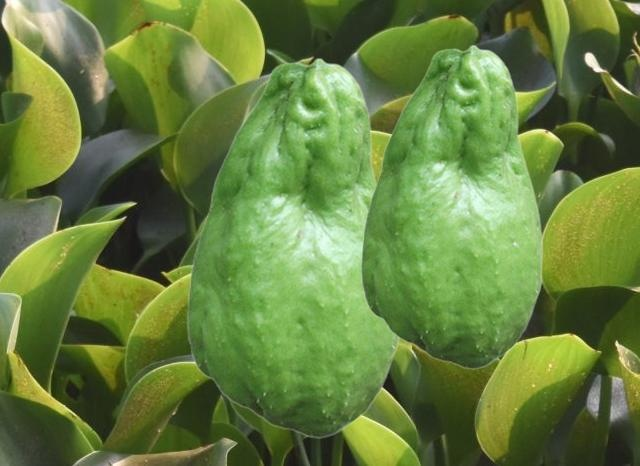sayote: (186, 57, 400, 437), (360, 44, 542, 368)
